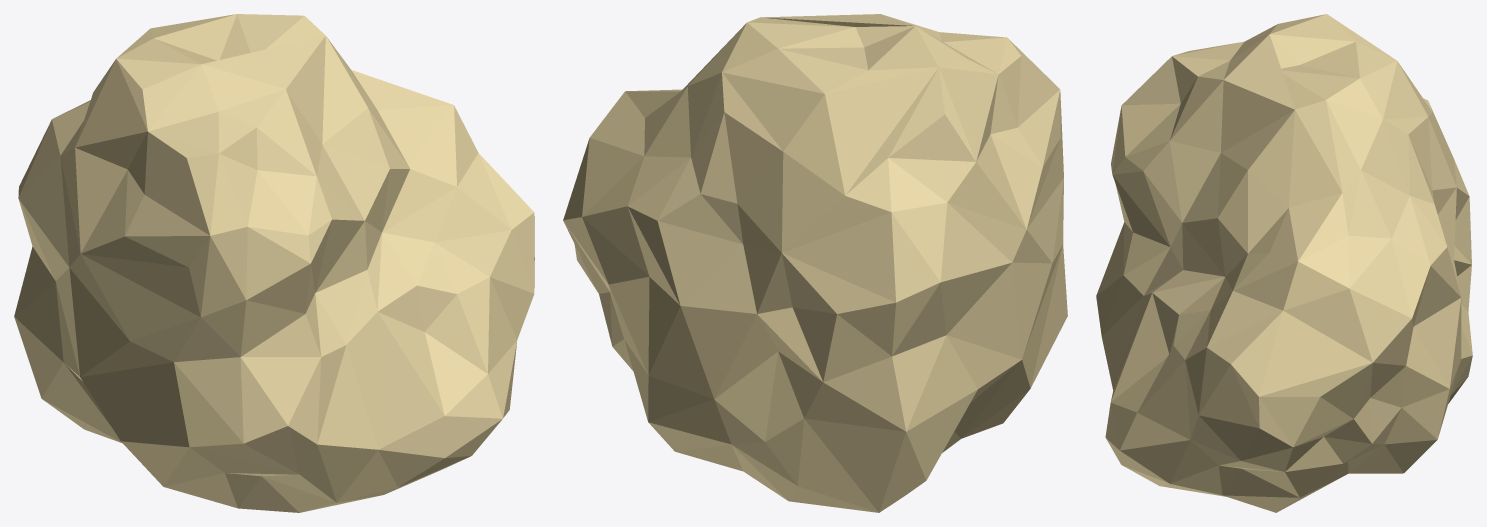
Rendered from Asteroid (105).fbx.
The picture shows the model from 3 angles, left to right: view 1: azimuth 30°, elevation 25°; view 2: azimuth 150°, elevation 25°; view 3: azimuth 270°, elevation 25°; orthographic projection. The views are drawn at different scales.
Parts seen in each view (by area): view 1: Asteroid156; view 2: Asteroid156; view 3: Asteroid156.
Boxes of the visible parts, <box> form: Asteroid156: <box>14,14,534,512</box>; Asteroid156: <box>563,14,1067,512</box>; Asteroid156: <box>1096,14,1472,512</box>.
Size of the model in its own units: 322 by 300 by 260.
